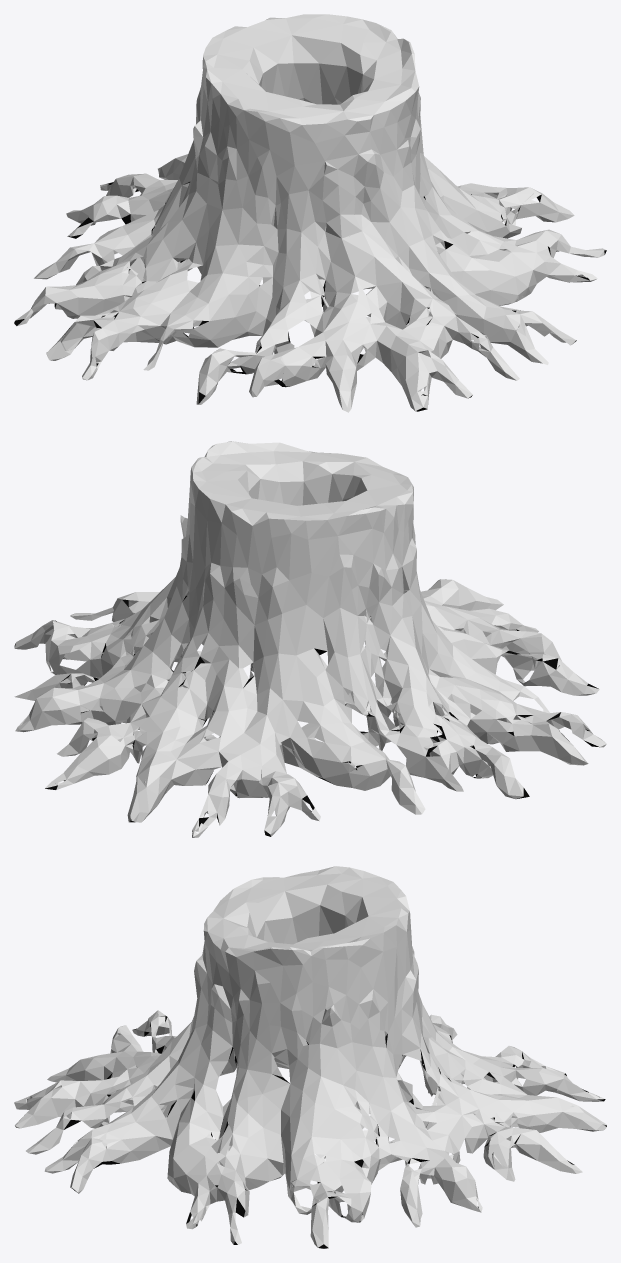
File: stump_dark_r1.glb
The picture shows the model from 3 angles, top to bottom: view 1: azimuth 30°, elevation 25°; view 2: azimuth 150°, elevation 25°; view 3: azimuth 270°, elevation 25°; orthographic projection. The views are drawn at different scales.
Visible parts, largest first — view 1: Low; view 2: Low; view 3: Low.
Boxes of the visible parts, x1=… form: Low: x1=14, y1=14, x2=606, y2=412; Low: x1=14, y1=441, x2=606, y2=837; Low: x1=14, y1=866, x2=606, y2=1248.
Bounding box in the file's own units: 1.94 × 0.7993 × 1.93.
Materials: 1 (1 with a texture image).
